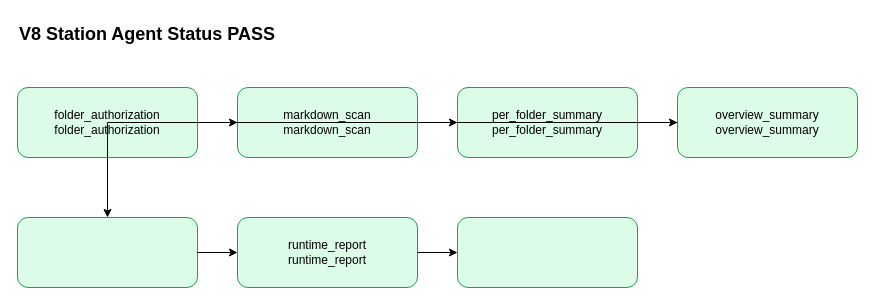
Some shapes in this 875 by 305 pixel diagram are drawn without their labels. The shapes that lost their labels are listed below. From the top down, each one's centre as x and y in pixels, then its label:
At [107,252]: "quality_check quality_check".
At [547,252]: "evidence_record evidence_record".
